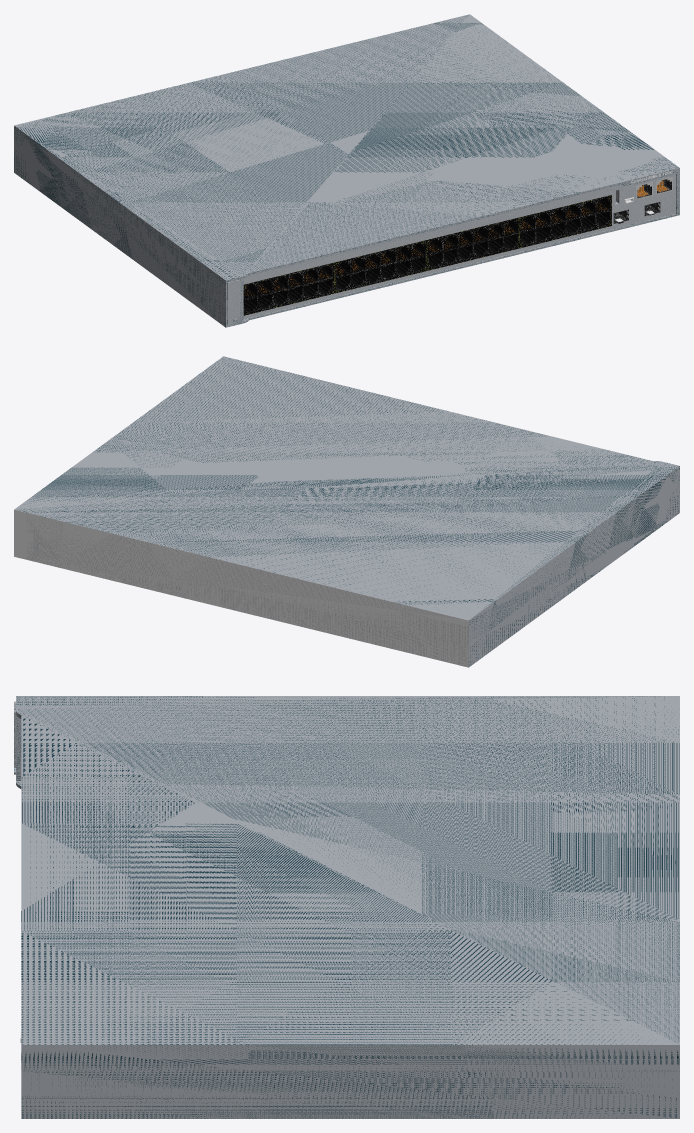
The picture shows the model from 3 angles, top to bottom: view 1: azimuth 30°, elevation 25°; view 2: azimuth 150°, elevation 25°; view 3: azimuth 270°, elevation 25°; orthographic projection. The views are drawn at different scales.
Visible parts, largest first — view 1: group_0; view 2: group_0; view 3: group_0.
Boxes of the visible parts, x1,y1,x2,y2 form: group_0: (14, 14, 679, 327); group_0: (14, 356, 679, 667); group_0: (14, 696, 679, 1118).
Bounding box in the file's own units: 2.31 × 0.2281 × 1.86.
